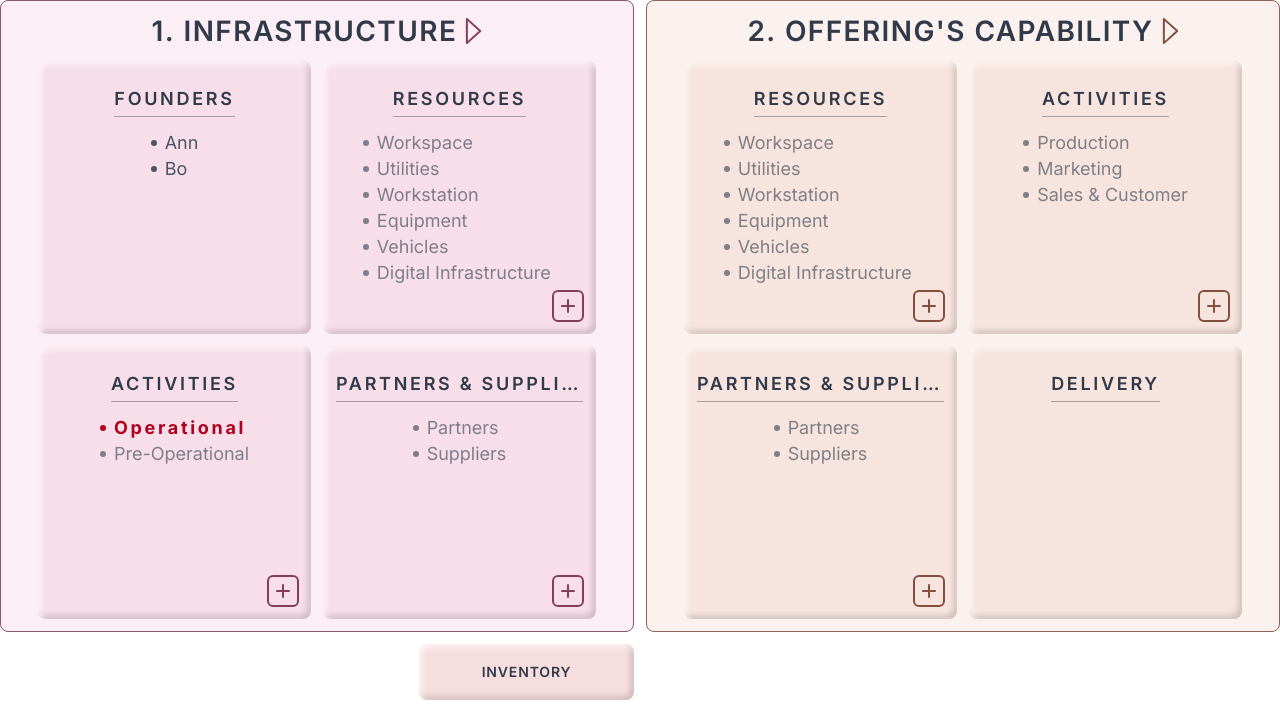
Test: the lists on the page tiles are real controls › opens a category's view in the Activities dialog when its name is pressed and it holds several cards
The width and height of the screenshot is (1280, 720).
Click the button "Operational": coordinates (180, 428) x1=114 y1=414 x2=246 y2=441
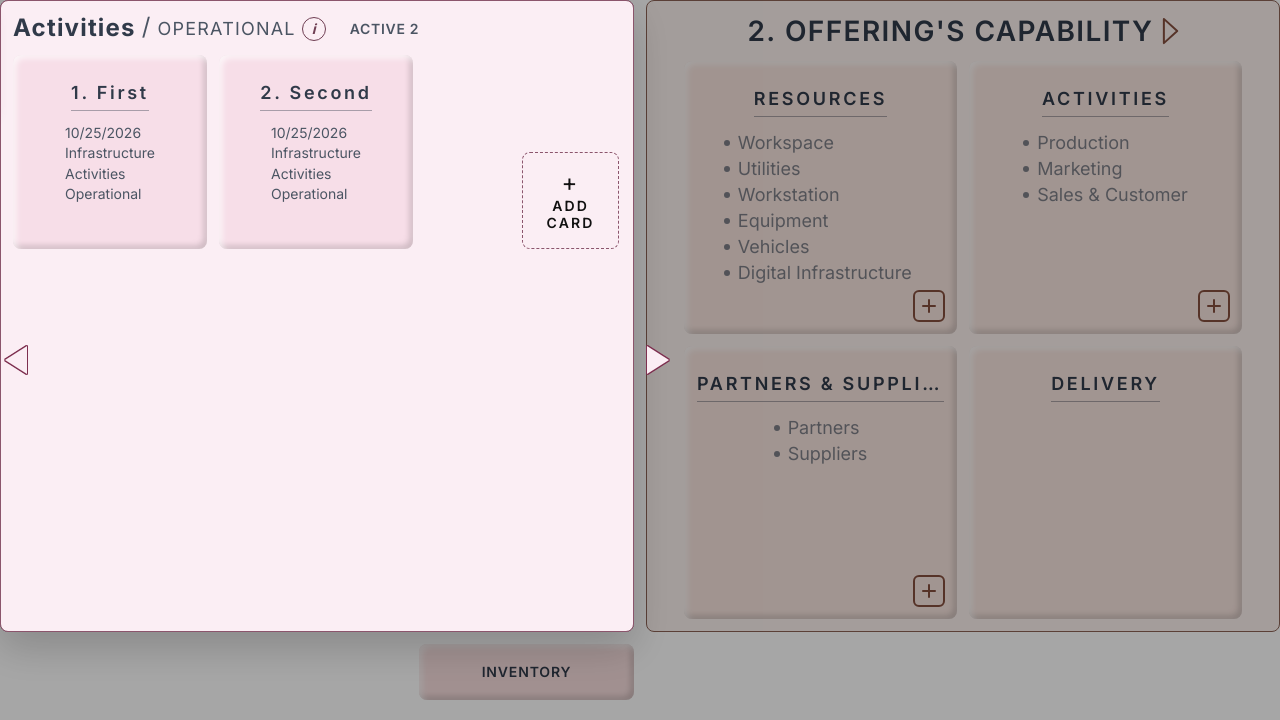
Expected: the text with class "dialog-heading-sub" reads "Operational", x1=158 y1=18 x2=296 y2=39
